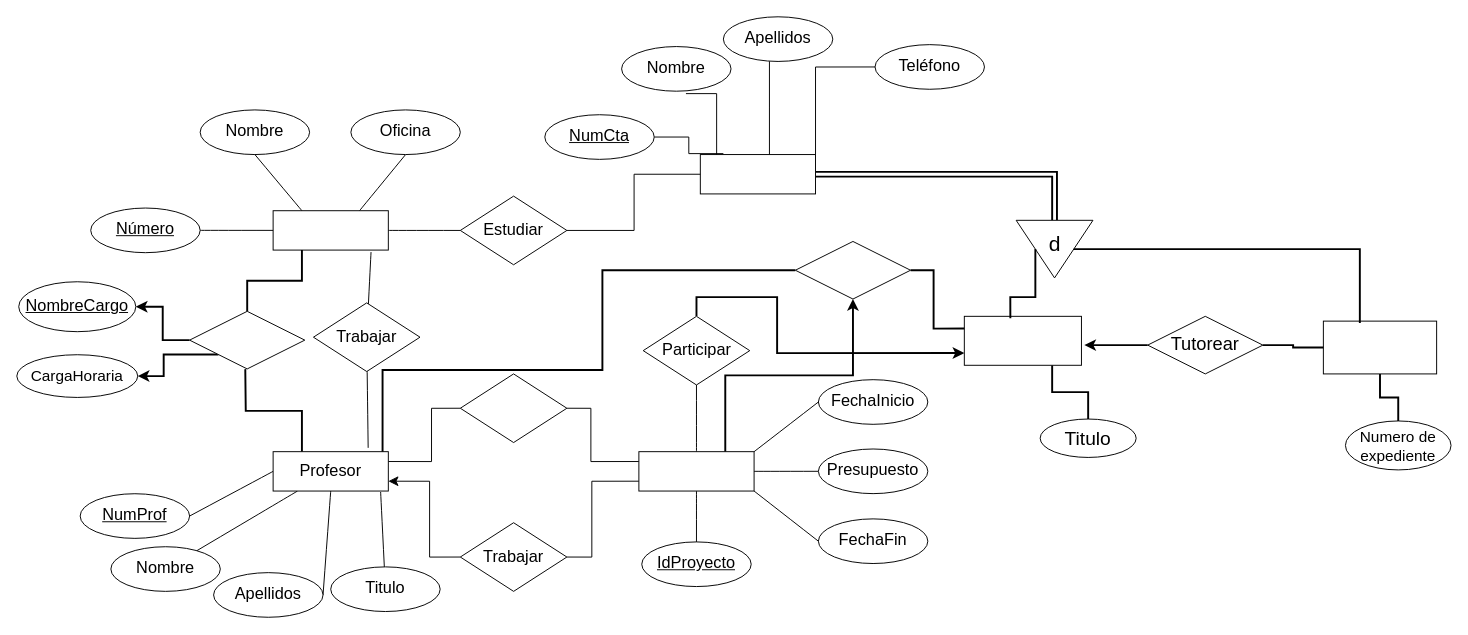
The diagram is 1468 pixels wide and 635 high, and some of its shapes have lost their labels. The centre of each missing label's shape, as x and y in pixels:
"Administrar" belongs at point 513,408.
"Alumno" belongs at point 757,174.
"Alumno Graduado" belongs at point 1022,340.
"Alumno no Graduado" belongs at point 1379,347.
"Departamento" belongs at point 330,230.
"Ocupar" belongs at point 247,339.
"Proyecto" belongs at point 696,471.
"Supervisar" belongs at point 852,269.
